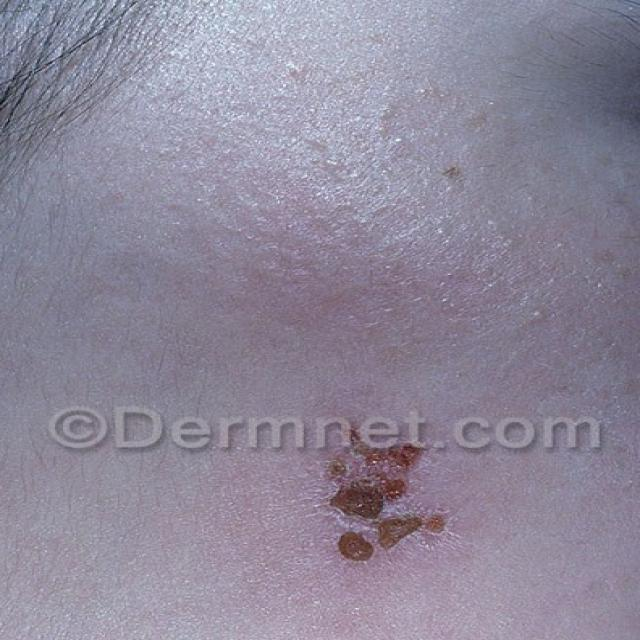Viral Infections: (284, 403, 472, 583)
